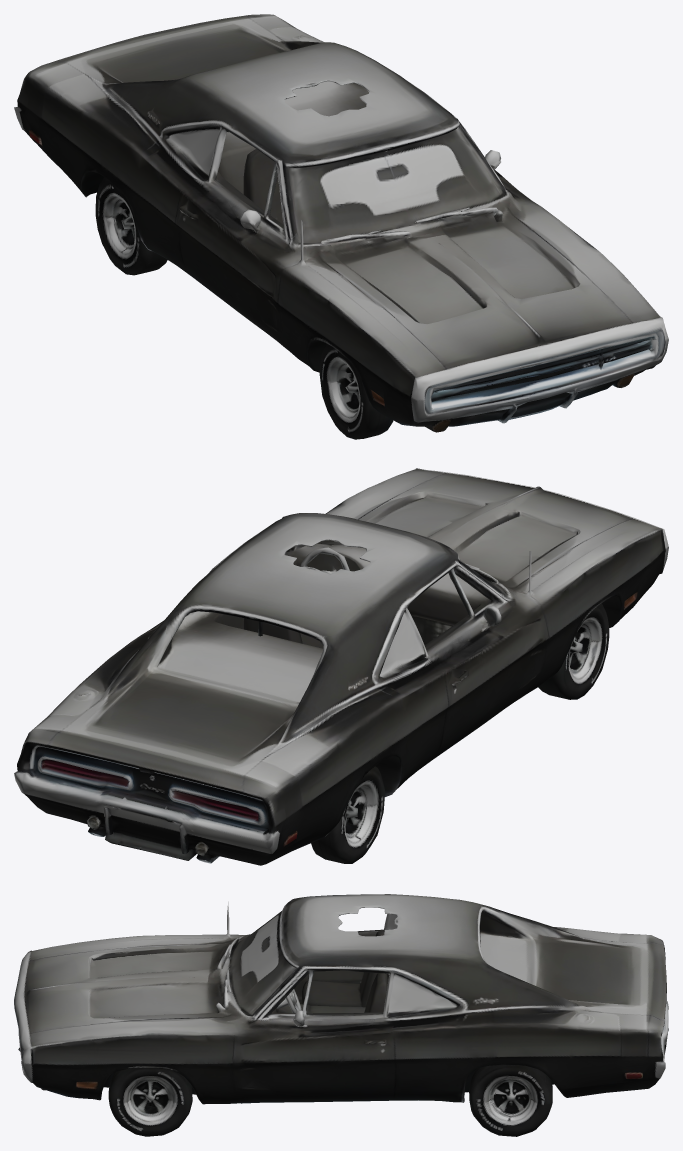
The model's file is PlayerCar.fbx.
3 renders of one model, top to bottom at view 1: azimuth 30°, elevation 25°; view 2: azimuth 150°, elevation 25°; view 3: azimuth 270°, elevation 25°, orthographic. The views are drawn at different scales.
Parts seen in each view (by area): view 1: tripo_node_6de9c0ee; view 2: tripo_node_6de9c0ee; view 3: tripo_node_6de9c0ee.
Boxes of the visible parts, x1=… form: tripo_node_6de9c0ee: x1=14, y1=14, x2=668, y2=439; tripo_node_6de9c0ee: x1=14, y1=468, x2=668, y2=865; tripo_node_6de9c0ee: x1=14, y1=894, x2=668, y2=1136.
Bounding box in the file's own units: 39.24 × 100 × 28.61.
Materials: 1 (1 with a texture image).
